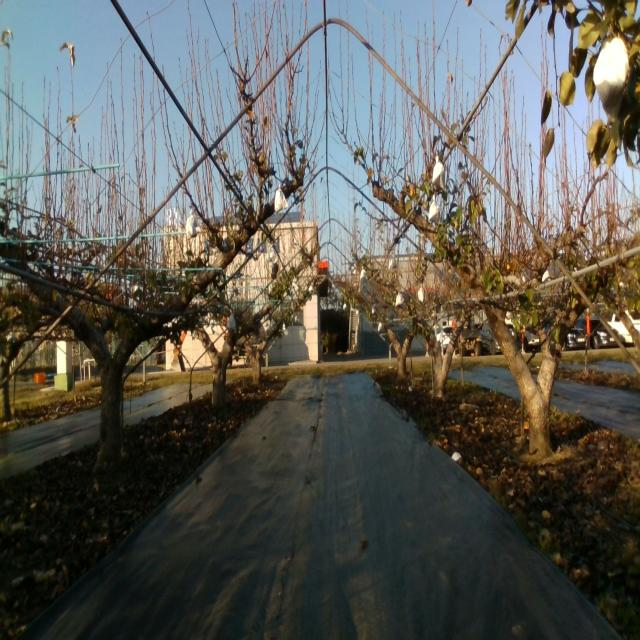pearbags: (594, 36, 630, 118), (432, 155, 446, 191), (186, 210, 200, 242), (273, 187, 288, 214), (428, 194, 440, 226)
